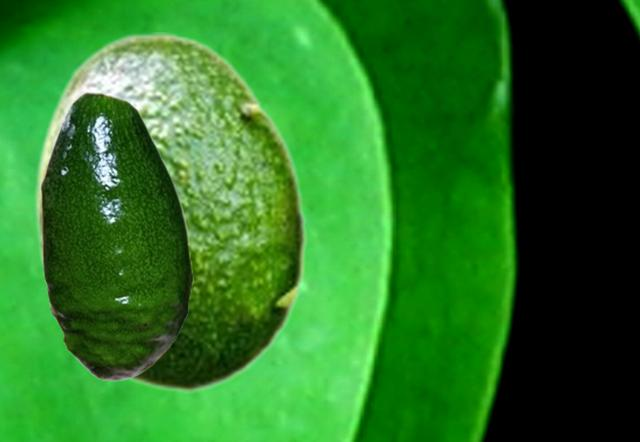avocado: (32, 32, 307, 392), (40, 91, 192, 380)
